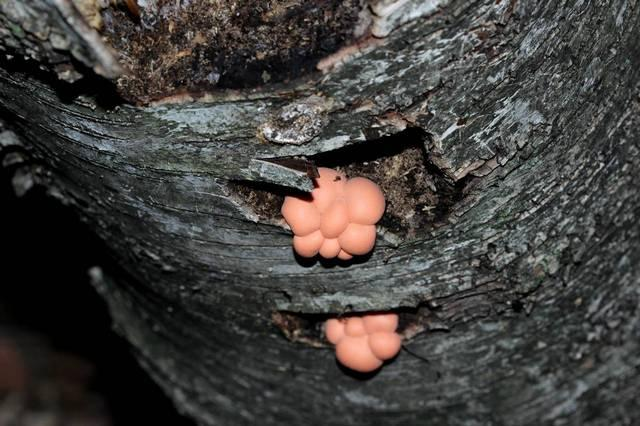Non-edible Mushroom: (279, 164, 386, 261), (321, 311, 402, 373)
